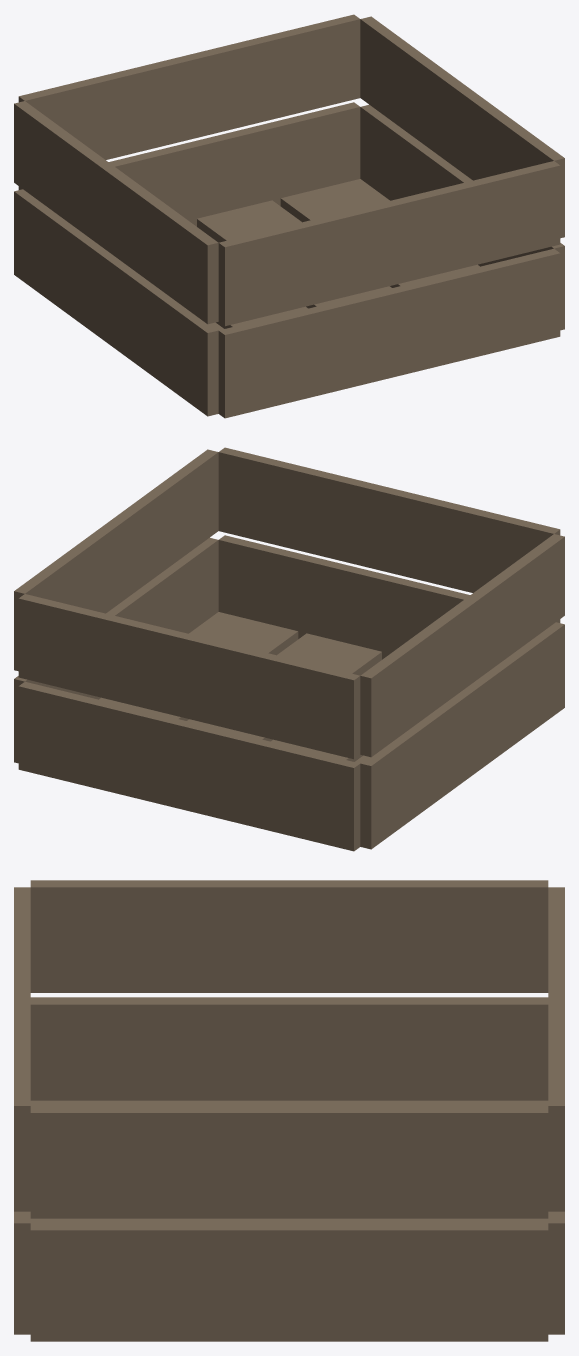
Rendered from PS_FoodBin.fbx.
The picture shows the model from 3 angles, top to bottom: view 1: azimuth 30°, elevation 25°; view 2: azimuth 150°, elevation 25°; view 3: azimuth 270°, elevation 25°; orthographic projection. The views are drawn at different scales.
Visible parts, largest first — view 1: PS_FoodBin; view 2: PS_FoodBin; view 3: PS_FoodBin.
Boxes of the visible parts, left/top/right/bottom form: PS_FoodBin: left=14, top=14, right=564, bottom=418; PS_FoodBin: left=14, top=447, right=564, bottom=851; PS_FoodBin: left=14, top=880, right=564, bottom=1341.
Bounding box in the file's own units: 0.6802 × 0.3113 × 0.6802.
